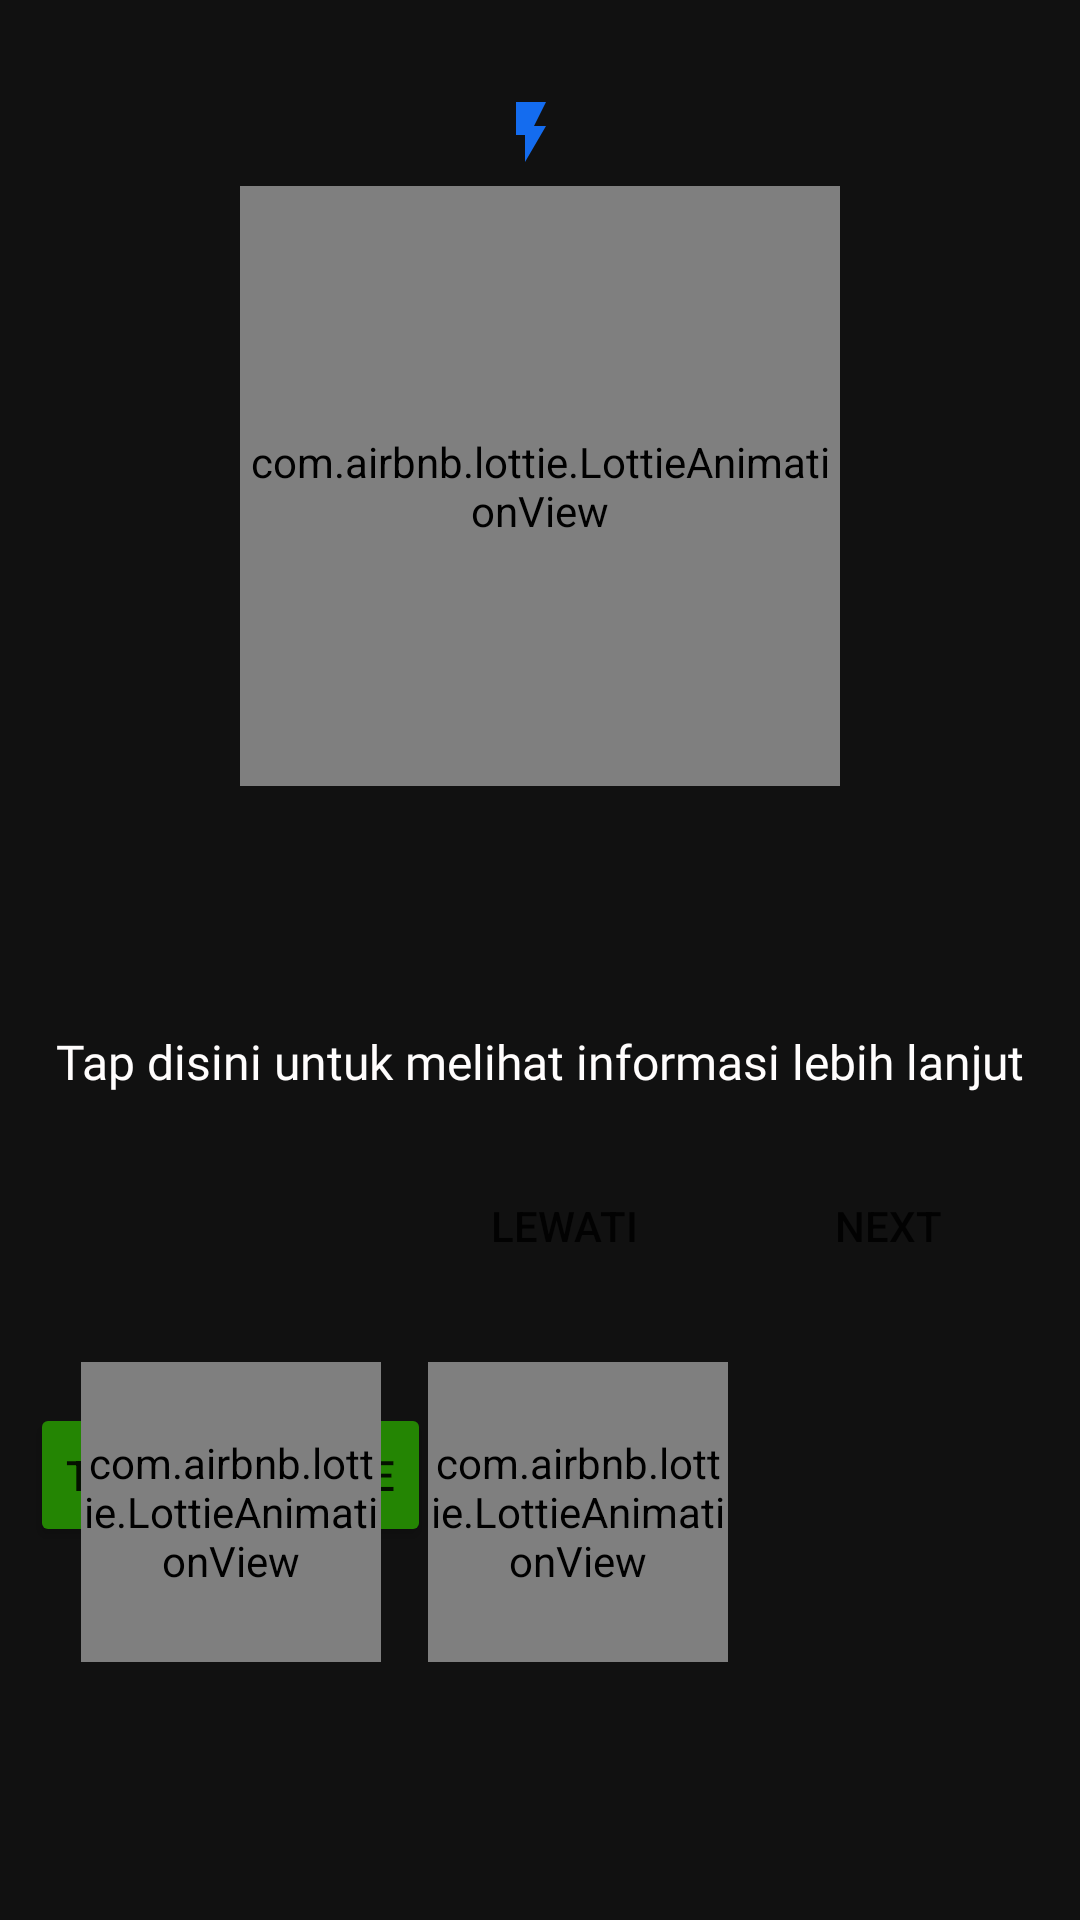

Screen size 1080 × 1920. Icon name, then its box in pixels as [x1, y1, x2, y2]:
flash on: [516, 102, 546, 162]
